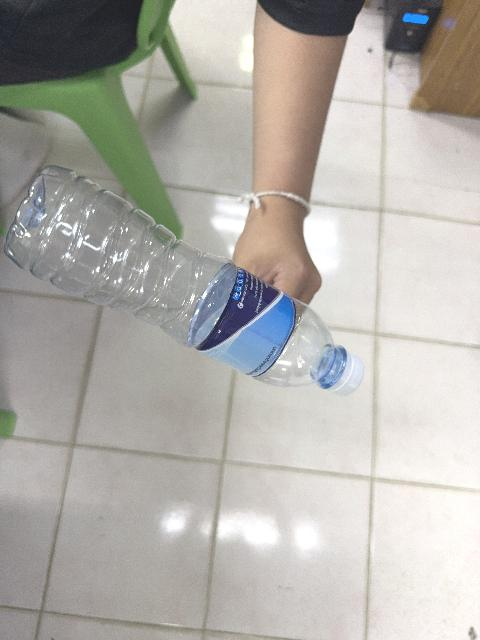bottle: (4, 167, 362, 394)
